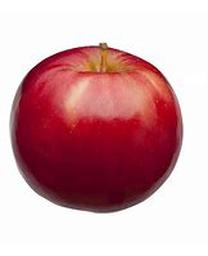apple: (9, 43, 184, 215)
